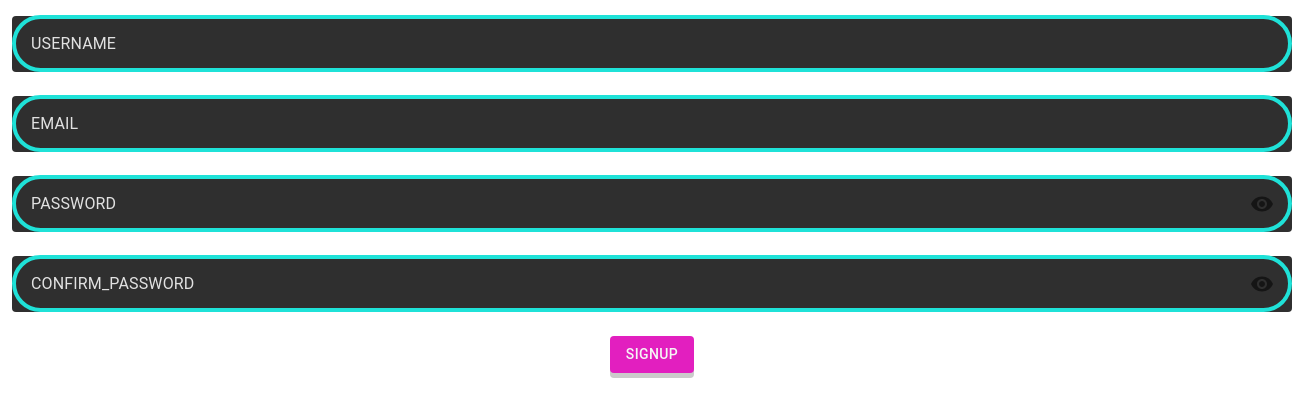
auth register unit tests › clears backend field error when user edits that field
Type "john" into the field labelled "USERNAME" at (652, 44), box [12, 16, 1292, 72]
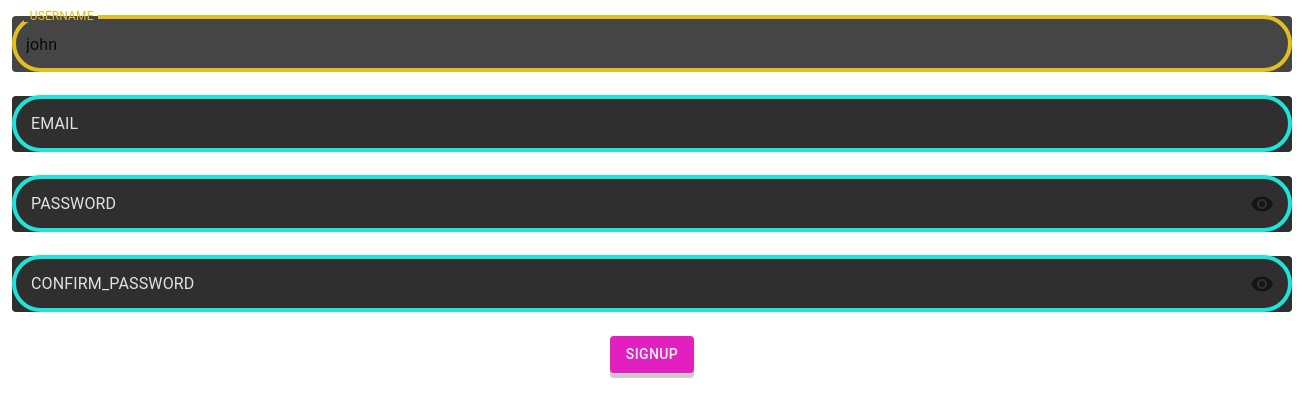
Type "john+new@42.fr" into the field labelled "EMAIL" at (652, 124), box [12, 96, 1292, 152]
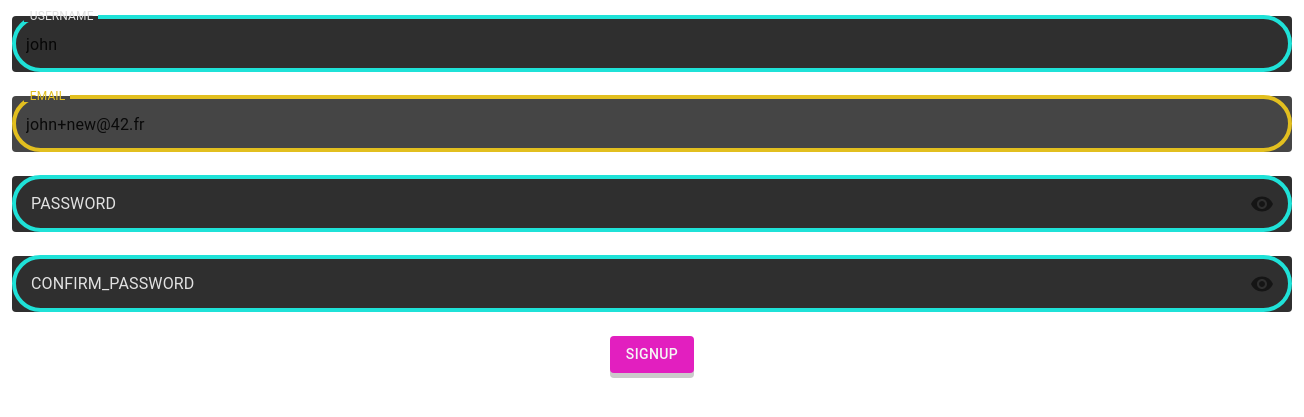
Type "Secret1!" into the password field labelled "PASSWORD" at (623, 204), box [12, 176, 1234, 232]
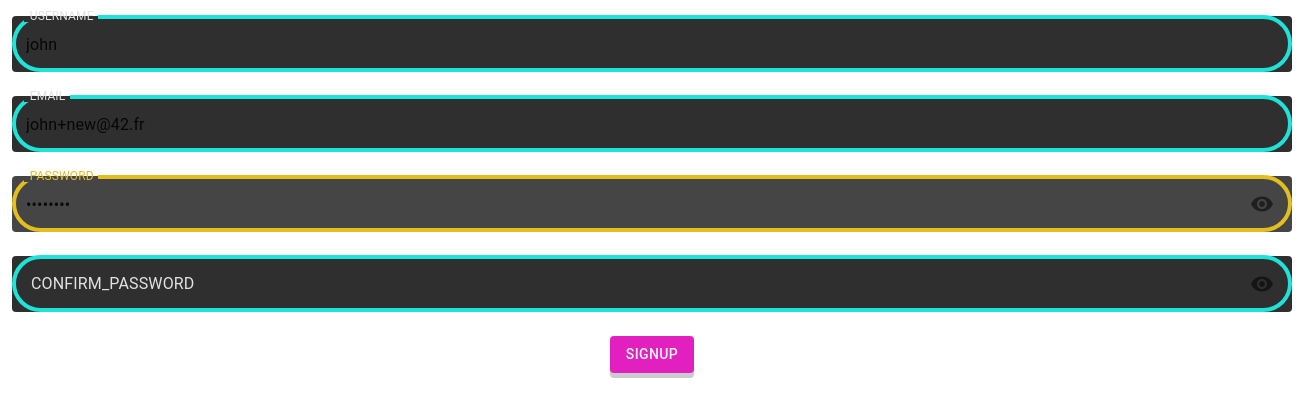
Type "Secret1!" into the password field labelled "CONFIRM_PASSWORD" at (623, 284), box [12, 256, 1234, 312]
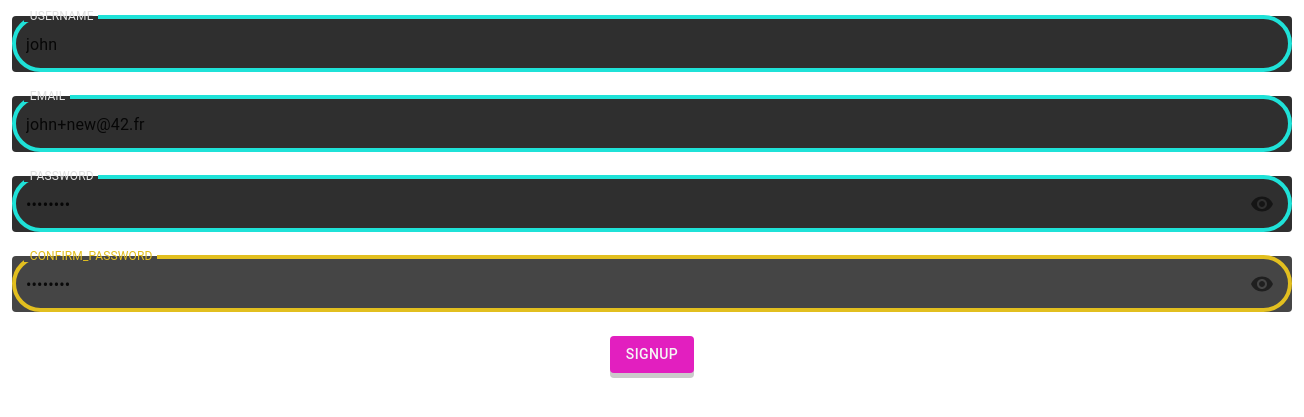
Click the button "SIGNUP" at (652, 354), box [610, 336, 694, 372]
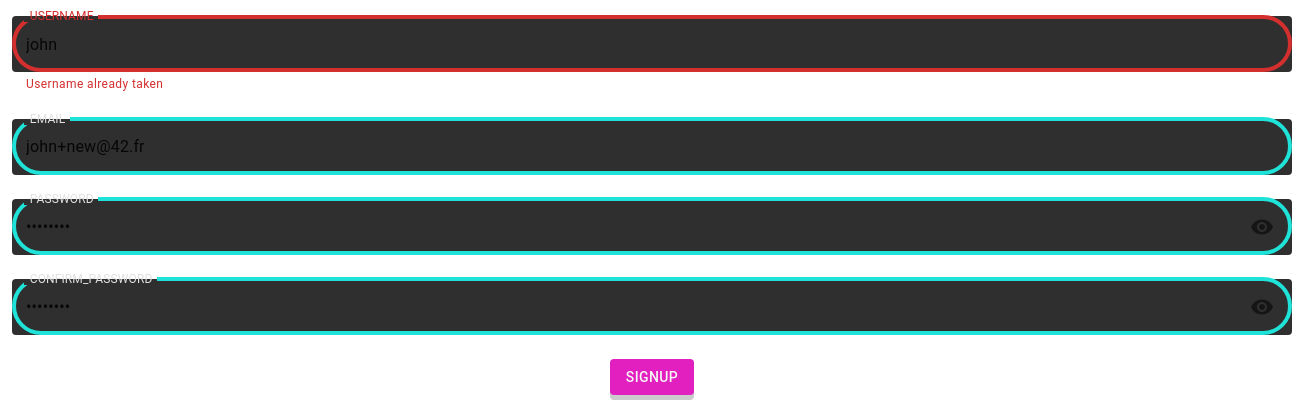
Expected: the text "Username already taken" is shown, [26, 77, 163, 91]
Type "2" into the field labelled "USERNAME" at (652, 44), box [12, 16, 1292, 72]
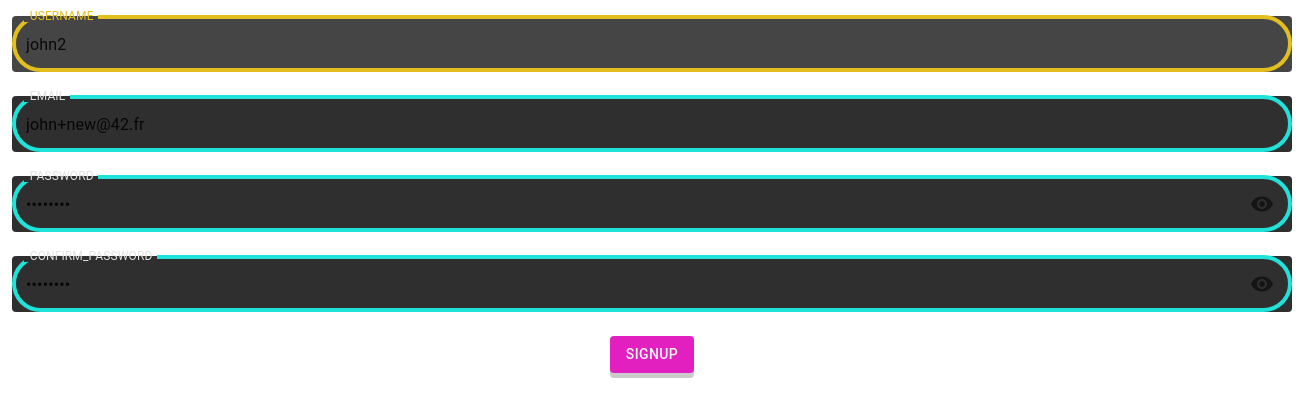
Expected: the text "Username already taken" is gone
